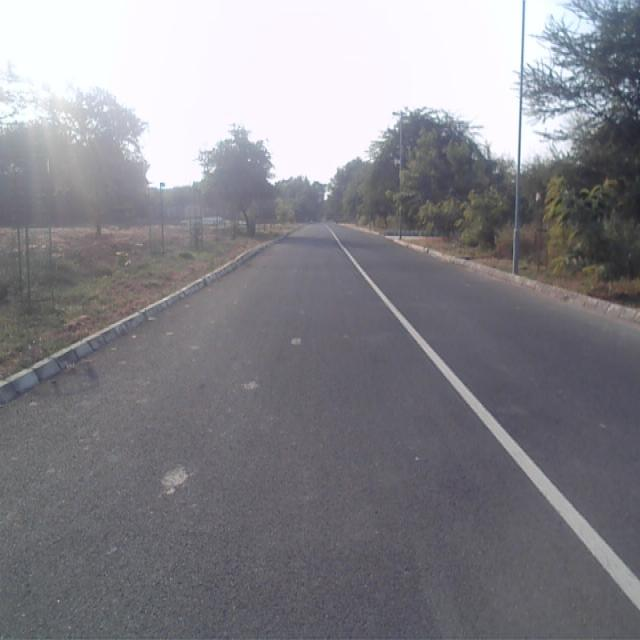lane: (0, 230, 640, 640)
